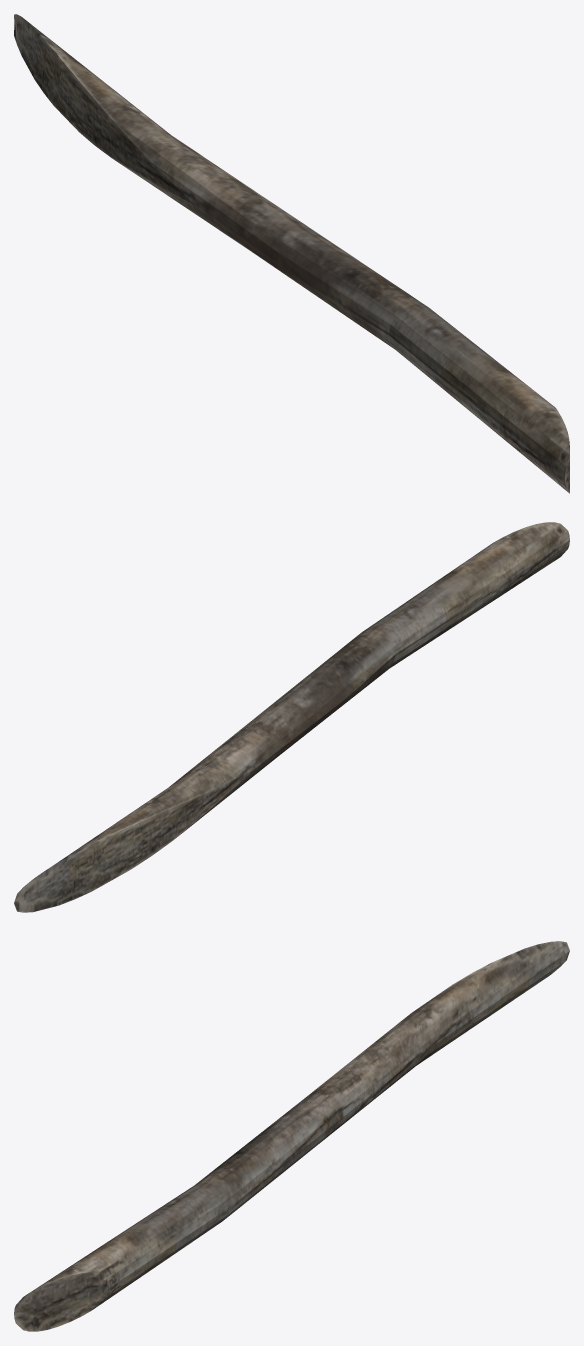
Rendered from SM_Twigs_7.fbx.
3 views of the same model, one above another, from view 1: azimuth 30°, elevation 25°; view 2: azimuth 150°, elevation 25°; view 3: azimuth 330°, elevation 25° (orthographic). The views are drawn at different scales.
Parts seen in each view (by area): view 1: SM_Twigs_7_LOD0; view 2: SM_Twigs_7_LOD0; view 3: SM_Twigs_7_LOD0.
Part boxes in pixels (x1,y1,x2,y2): SM_Twigs_7_LOD0: (14,14,569,493); SM_Twigs_7_LOD0: (14,522,569,912); SM_Twigs_7_LOD0: (14,941,569,1331).
Bounding box in the file's own units: 2.24 × 37.81 × 1.92.
